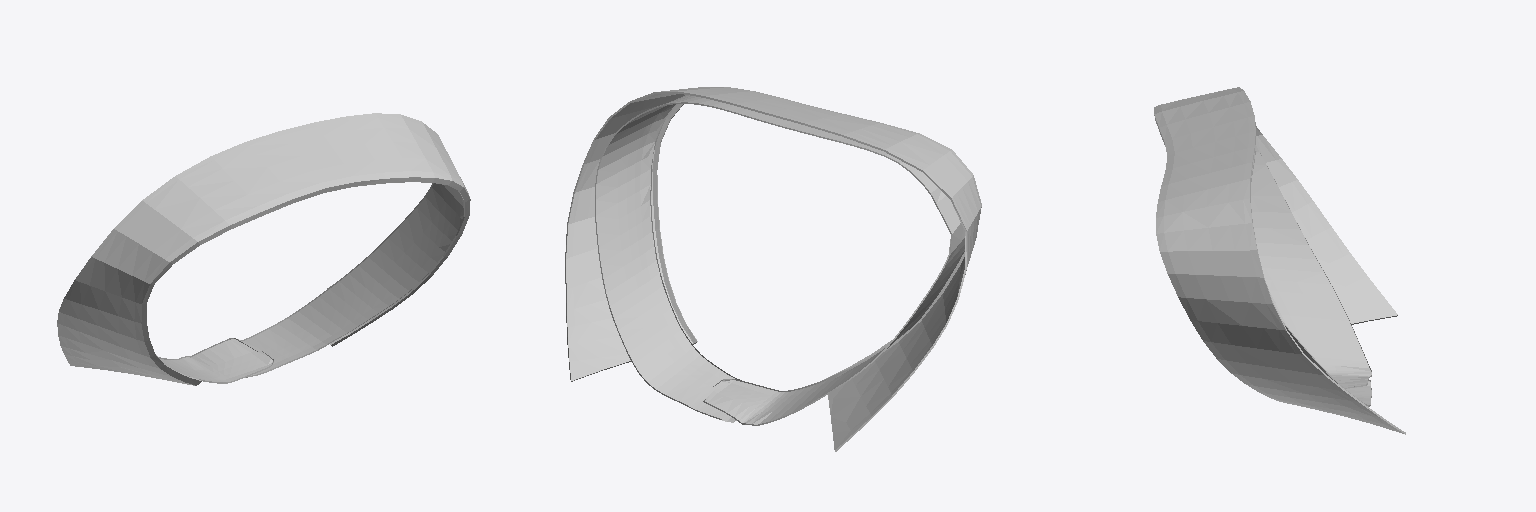
File: mitre_button1.obj
3 views of the same model, side by side, from view 1: azimuth 30°, elevation 25°; view 2: azimuth 150°, elevation 25°; view 3: azimuth 270°, elevation 25° (orthographic).
Visible parts, largest first — view 1: 19__mitre_button_down, inner_collar_out; view 2: 19__mitre_button_down, inner_collar_out; view 3: 19__mitre_button_down, inner_collar_out.
Boxes of the visible parts, x1=… form: 19__mitre_button_down: x1=57, y1=113, x2=470, y2=385; inner_collar_out: x1=159, y1=183, x2=463, y2=383; 19__mitre_button_down: x1=565, y1=87, x2=981, y2=451; inner_collar_out: x1=595, y1=95, x2=964, y2=425; 19__mitre_button_down: x1=1154, y1=87, x2=1405, y2=434; inner_collar_out: x1=1251, y1=145, x2=1371, y2=406.
Bounding box in the file's own units: 18 × 11.83 × 10.28.